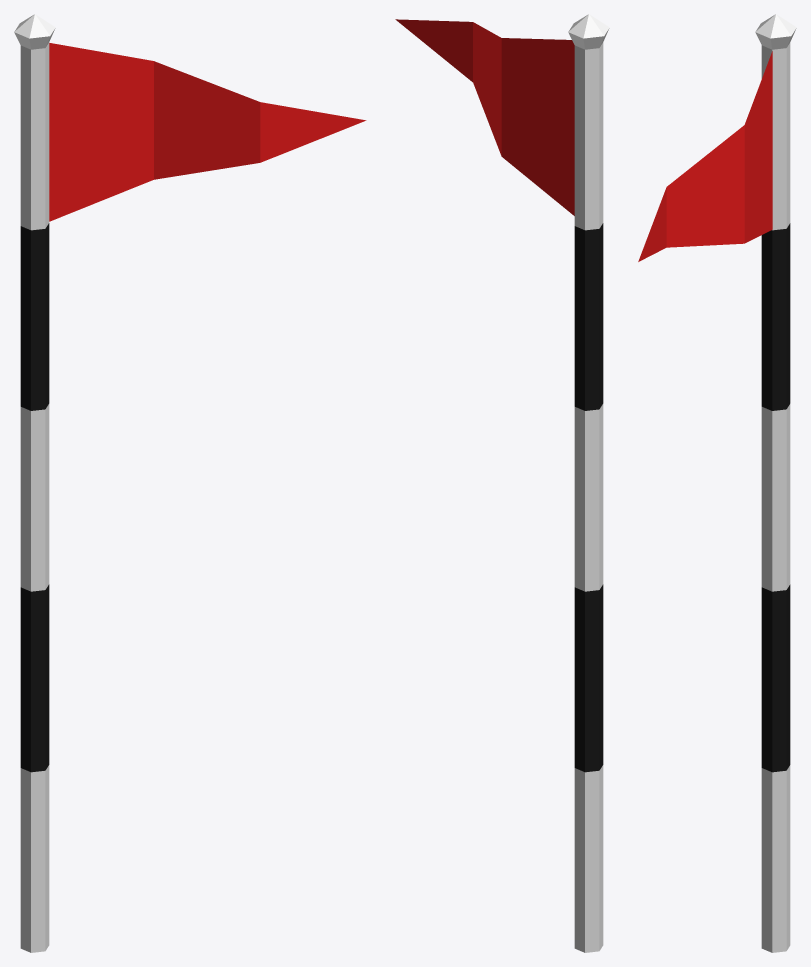
The model's file is golfFlag (1).fbx.
3 views of the same model, side by side, from view 1: azimuth 30°, elevation 25°; view 2: azimuth 150°, elevation 25°; view 3: azimuth 270°, elevation 25° (orthographic).
Visible parts, largest first — view 1: golf-flag_01-2, golf-flag_01; view 2: golf-flag_01, golf-flag_01-2; view 3: golf-flag_01, golf-flag_01-2.
Part boxes in pixels (x1,y1,x2,y2): golf-flag_01-2: (49, 43, 366, 221); golf-flag_01: (14, 14, 55, 952); golf-flag_01: (568, 14, 609, 952); golf-flag_01-2: (395, 19, 574, 215); golf-flag_01: (755, 14, 796, 952); golf-flag_01-2: (638, 51, 772, 261).
Size of the model in its own units: 2.6 by 8.26 by 1.28.
